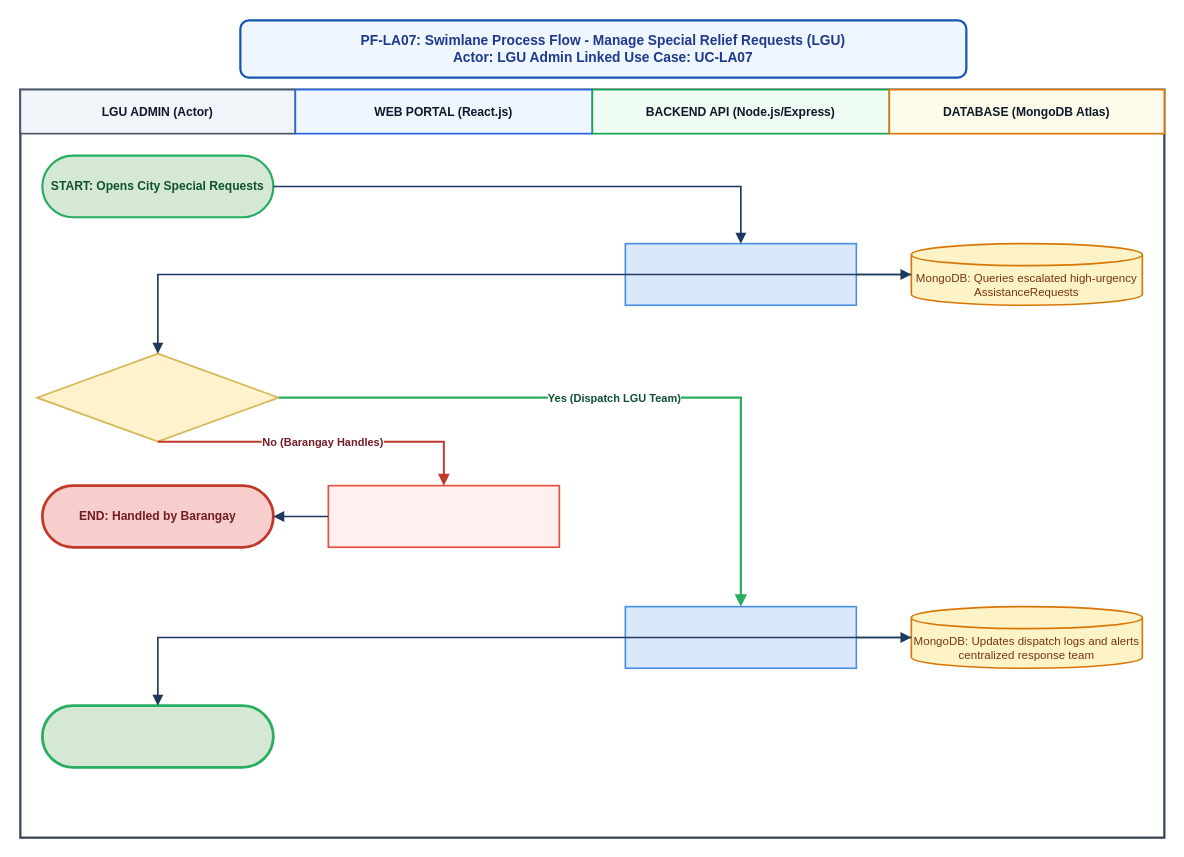
The diagram is 1184 pixels wide and 857 high, and some of its shapes have lost their labels. The shapes that lost their labels are listed below. From the top down, each one's centre as x and y in pixels, then its label:
point 740,274: GET /api/assistance-requests (city-wide emergency queue)
point 157,397: Inter-barangay resource dispatch required?
point 443,516: Monitor local barangay official resolution & follow up
point 740,637: PATCH /api/assistance-requests/:id/assign with centralized team ID
point 157,736: END: Centralized emergency aid delivered
